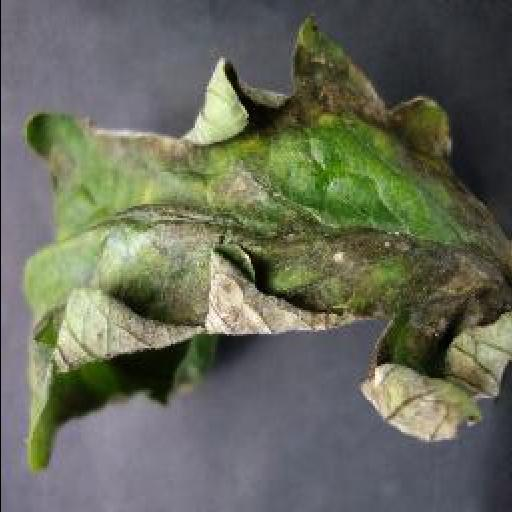disease_tomato: (20, 16, 512, 474)
